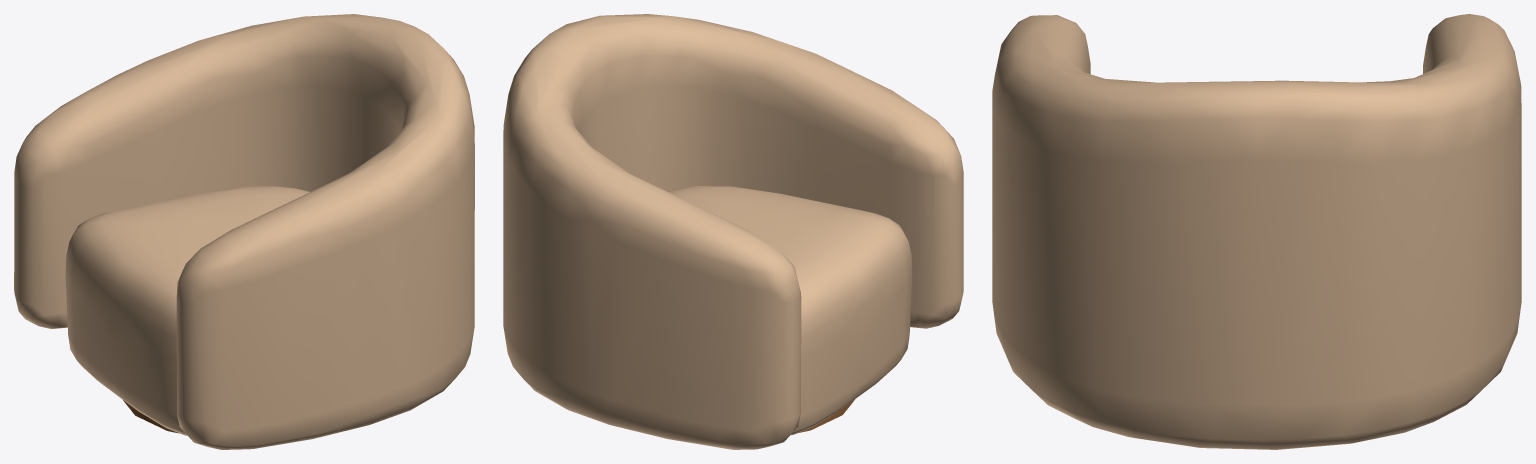
The model's file is armchair_04_beige.fbx.
3 renders of one model, left to right at view 1: azimuth 30°, elevation 25°; view 2: azimuth 150°, elevation 25°; view 3: azimuth 270°, elevation 25°, orthographic. The views are drawn at different scales.
Parts seen in each view (by area): view 1: armchair_04_beige; view 2: armchair_04_beige; view 3: armchair_04_beige.
Boxes of the visible parts, bbox=[...] form: armchair_04_beige: bbox=[14, 14, 474, 449]; armchair_04_beige: bbox=[503, 14, 963, 449]; armchair_04_beige: bbox=[992, 14, 1521, 449].
Size of the model in its own units: 115 by 99.69 by 122.
Materials: 2 (2 with a texture image).
